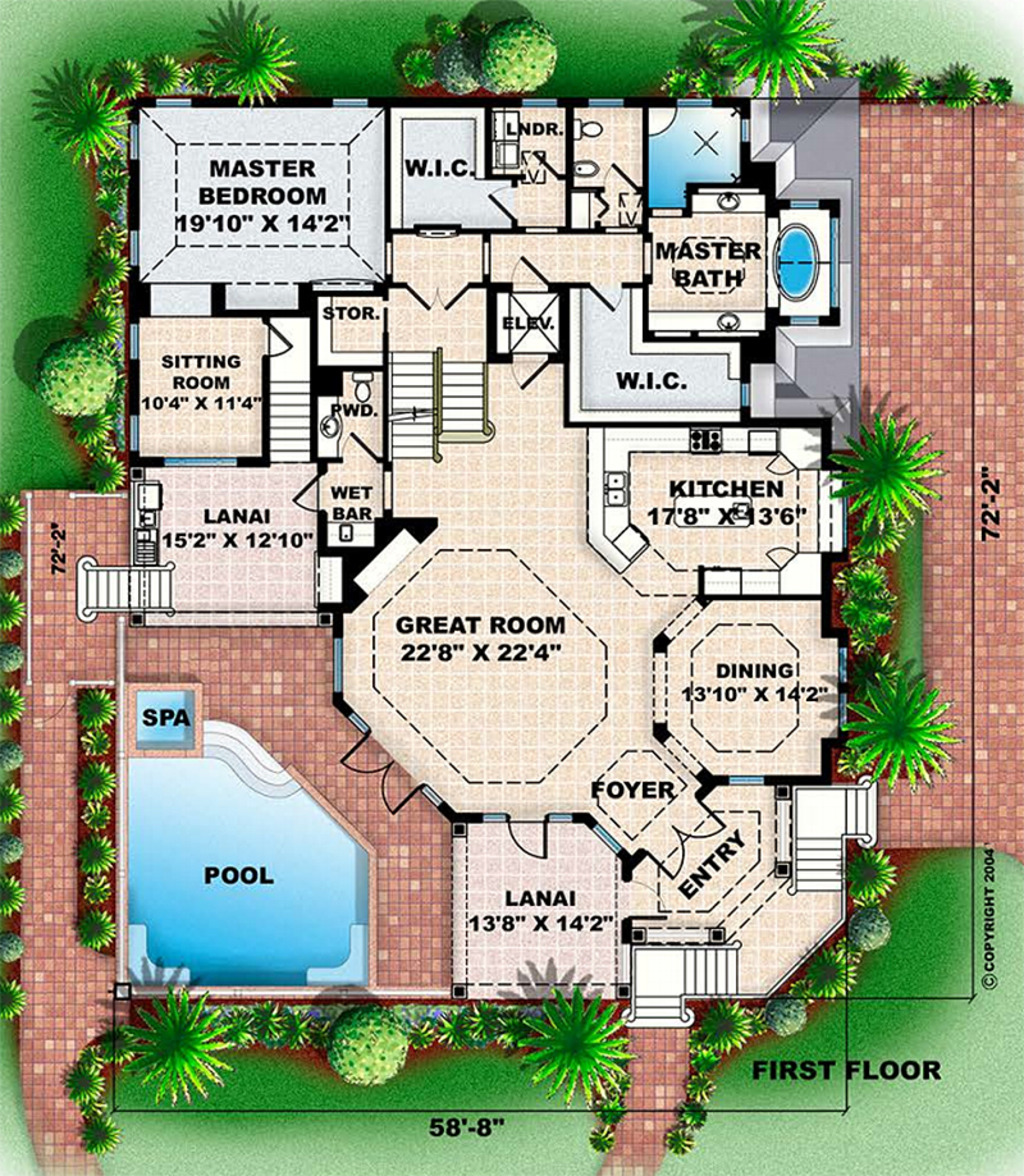door: (335, 731, 418, 820), (648, 804, 730, 880), (391, 276, 475, 310), (503, 813, 556, 860), (481, 183, 518, 231), (506, 354, 549, 390), (586, 276, 621, 315), (509, 256, 549, 289)
large_sink: (569, 114, 608, 146)
small_sink: (319, 399, 348, 460)
stairs: (381, 346, 495, 469), (796, 775, 879, 899), (626, 948, 746, 1028), (75, 551, 170, 626), (261, 350, 314, 471)
tub: (770, 209, 824, 311)
twin_sink: (599, 468, 633, 510)
windows: (155, 449, 243, 471)
